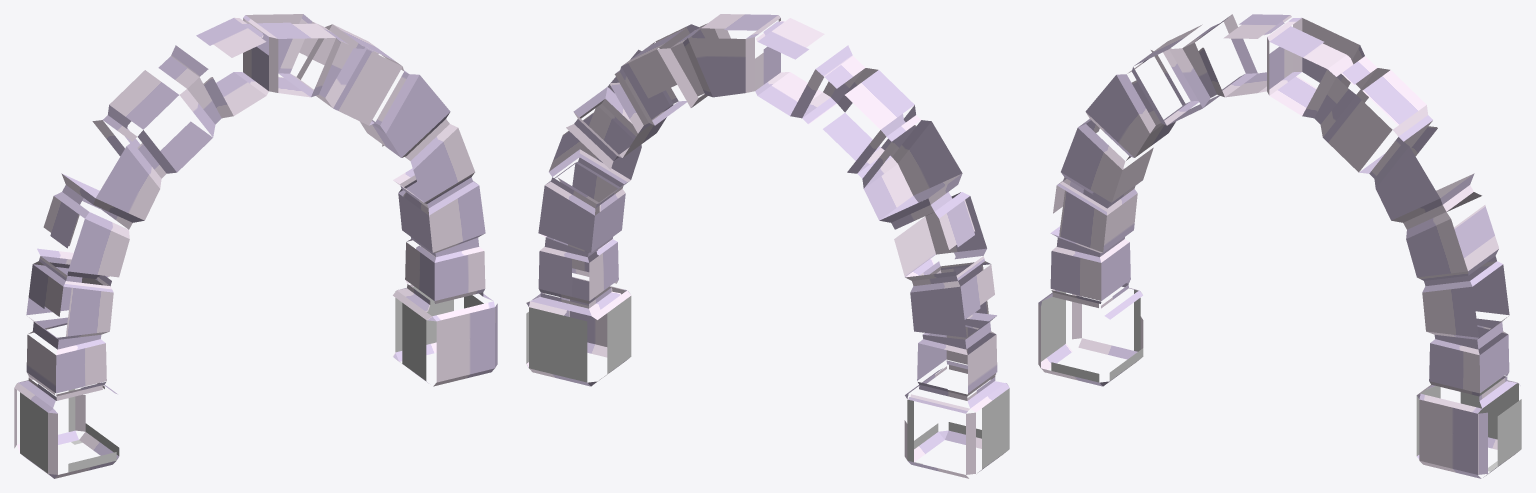
The model's file is PlatformArch.fbx.
3 views of the same model, side by side, from view 1: azimuth 30°, elevation 25°; view 2: azimuth 150°, elevation 25°; view 3: azimuth 330°, elevation 25° (orthographic).
Visible parts, largest first — view 1: PlatformARchTextured; view 2: PlatformARchTextured; view 3: PlatformARchTextured.
Part boxes in pixels (x1,y1,x2,y2): PlatformARchTextured: [14, 14, 497, 478]; PlatformARchTextured: [526, 14, 1009, 478]; PlatformARchTextured: [1038, 14, 1521, 478].
Size of the model in its own units: 1483 by 1216 by 235.
